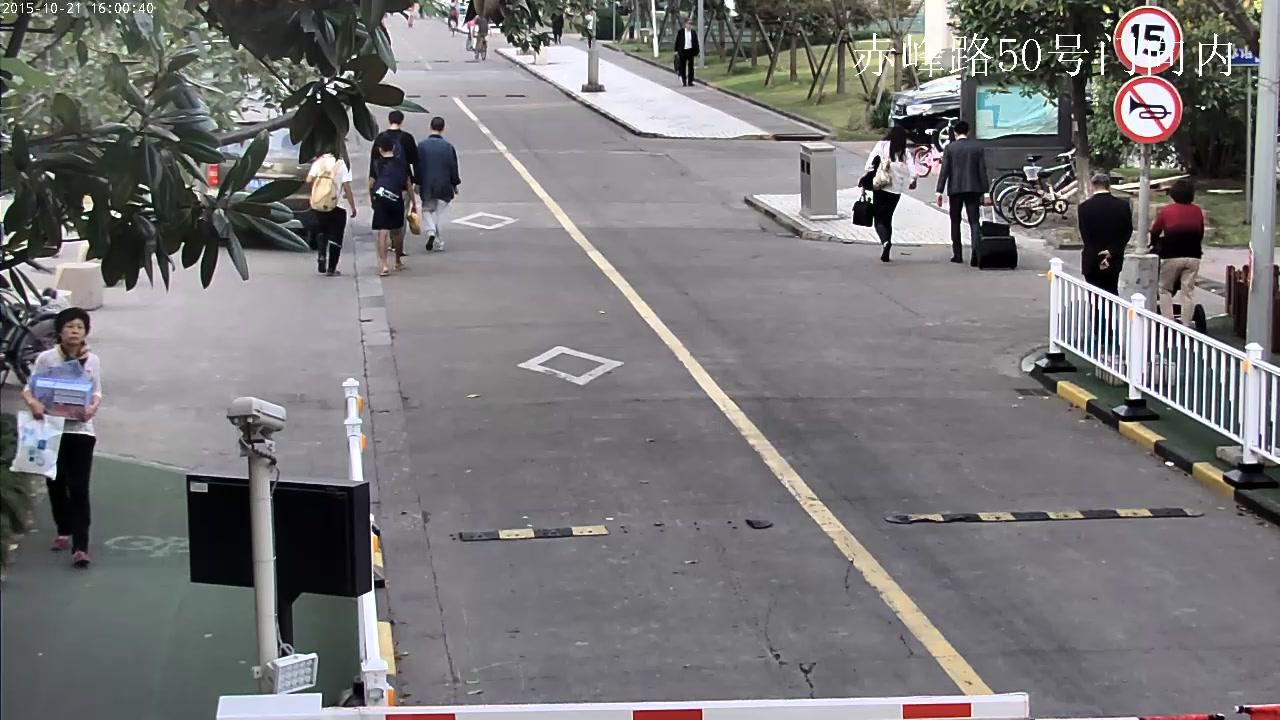person: (7, 306, 101, 566), (934, 120, 1017, 269), (852, 124, 917, 262), (1148, 180, 1204, 327), (934, 120, 988, 266), (368, 136, 421, 277), (370, 110, 419, 257), (303, 150, 356, 277), (1078, 172, 1133, 294), (418, 117, 461, 252), (674, 17, 699, 87), (472, 16, 488, 59), (472, 17, 487, 54), (583, 7, 595, 47), (549, 13, 563, 45), (446, 0, 458, 37), (446, 0, 458, 31)
